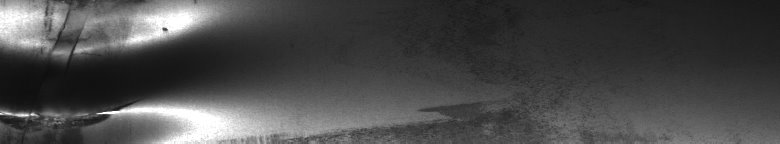ke: (4, 4, 196, 132)
